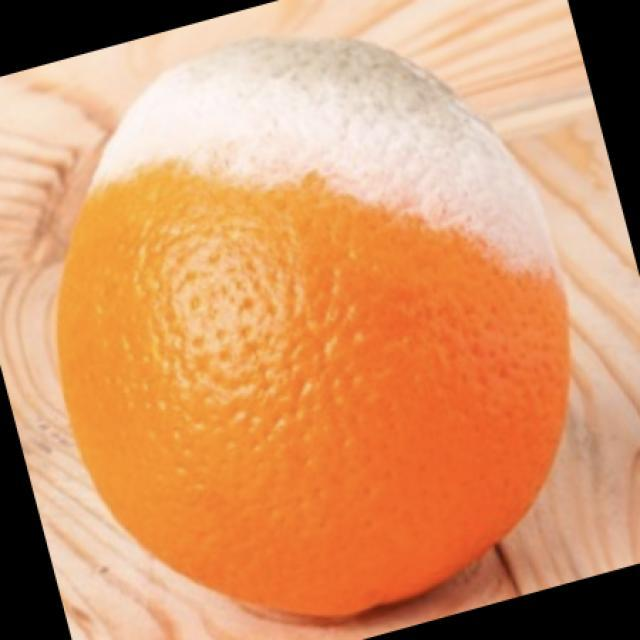sedikit-busuk: (57, 41, 569, 614)
